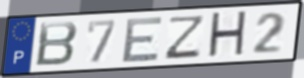2: (251, 11, 288, 56)
7: (84, 18, 117, 66)
B: (33, 20, 80, 68)
E: (120, 14, 166, 64)
H: (206, 9, 249, 61)
Z: (162, 13, 208, 61)
